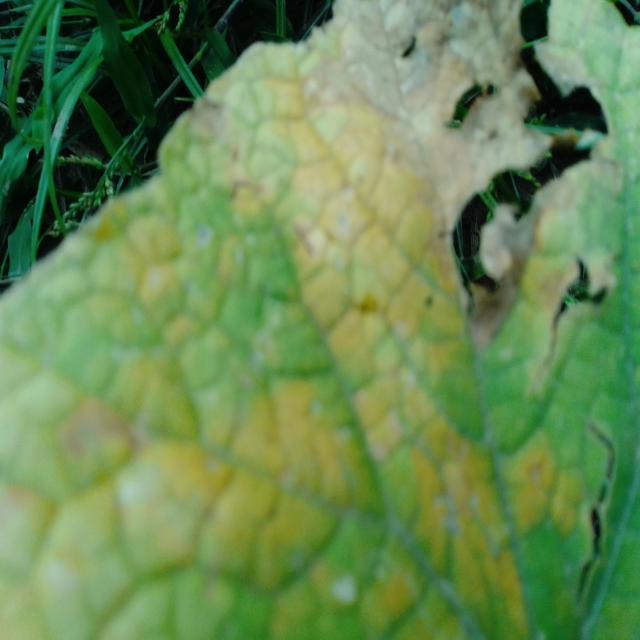cucumber_anthracnose: (336, 2, 640, 629)
